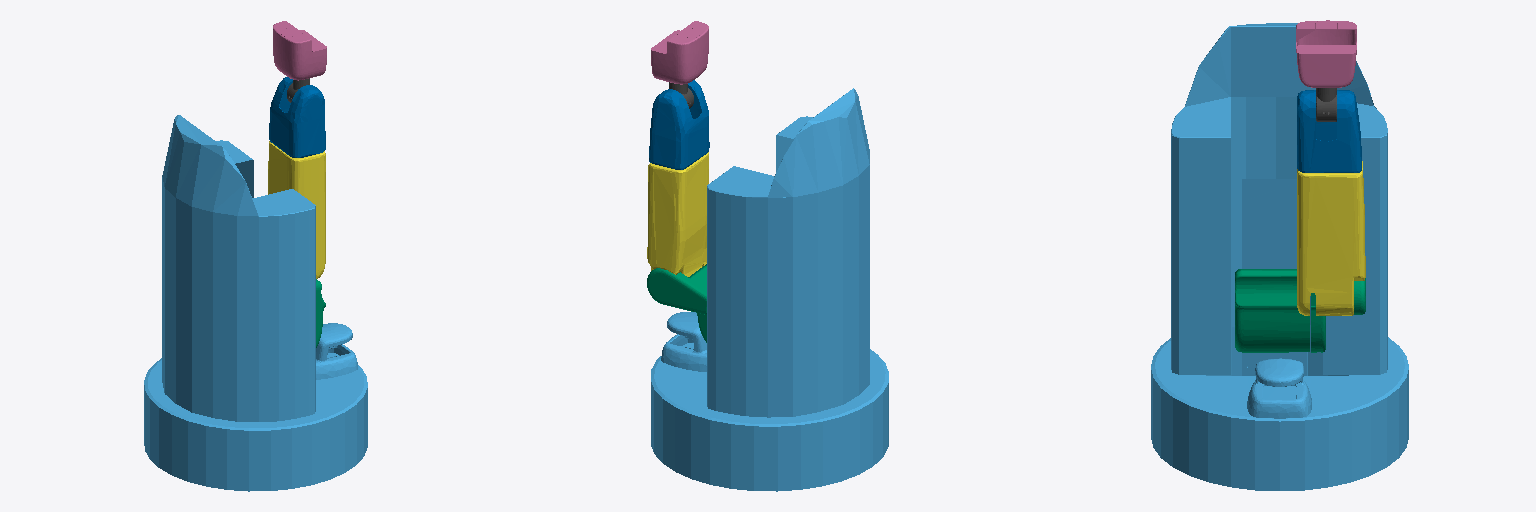
robot.urdf — hsrb:
<?xml version="1.0" encoding="utf-8"?>
<!-- =================================================================================== -->
<!-- |    This document was autogenerated by xacro from [local-path]/hsr/src/hsr_description/robots/hsrb4s.urdf.xacro | -->
<!-- |    EDITING THIS FILE BY HAND IS NOT RECOMMENDED                                 | -->
<!-- =================================================================================== -->
<!--
Copyright (c) 2017, Toyota Motor Corporation
All rights reserved.

Redistribution and use in source and binary forms, with or without
modification, are permitted provided that the following conditions are met:

 * Redistributions of source code must retain the above copyright notice,
   this list of conditions and the following disclaimer.
 * Redistributions in binary form must reproduce the above copyright
   notice, this list of conditions and the following disclaimer in the
   documentation and/or other materials provided with the distribution.
 * Neither the name of Toyota Motor Corporation nor the names of its
   contributors may be used to endorse or promote products derived from
   this software without specific prior written permission.

THIS SOFTWARE IS PROVIDED BY THE COPYRIGHT [author] "AS IS"
AND ANY EXPRESS OR IMPLIED WARRANTIES, INCLUDING, BUT NOT LIMITED TO, THE
IMPLIED WARRANTIES OF MERCHANTABILITY AND FITNESS FOR A PARTICULAR PURPOSE
ARE DISCLAIMED. IN NO EVENT SHALL THE COPYRIGHT [author]
LIABLE FOR ANY DIRECT, INDIRECT, INCIDENTAL, SPECIAL, EXEMPLARY, OR
CONSEQUENTIAL DAMAGES (INCLUDING, BUT NOT LIMITED TO, PROCUREMENT OF
SUBSTITUTE GOODS OR SERVICES; LOSS OF USE, DATA, OR PROFITS; OR BUSINESS
INTERRUPTION) HOWEVER CAUSED AND ON ANY THEORY OF LIABILITY, WHETHER IN
CONTRACT, STRICT LIABILITY, OR TORT (INCLUDING NEGLIGENCE OR OTHERWISE)
ARISING IN ANY WAY OUT OF THE USE OF THIS SOFTWARE, EVEN IF ADVISED OF THE
POSSIBILITY OF SUCH DAMAGE.
-->
<robot name="hsrb" xmlns:controller="http://playerstage.sourceforge.net/gazebo/xmlschema/#controller" xmlns:interface="http://playerstage.sourceforge.net/gazebo/xmlschema/#interface" xmlns:sensor="http://playerstage.sourceforge.net/gazebo/xmlschema/#sensor">
  <material name="body_main">
    <color rgba="1.0 0.0 0.0 1.0"/>
  </material>
  <material name="body_sub">
    <color rgba="0.3333 0.3333 0.3333 1.0"/>
  </material>
  <material name="wheel">
    <color rgba="0.2 0.2 0.2 1.0"/>
  </material>
  <material name="black">
    <color rgba="0.1 0.1 0.1 1.0"/>
  </material>
  <material name="tablet">
    <color rgba="0.1 0.1 0.2 1.0"/>
  </material>
  <!--
    ASUS Xtion PRO LIVE
    Specs from:
    http://www.asus.com/Multimedia/Xtion_PRO_LIVE/#specifications
    -->
  <link name="base_footprint"/>
  <joint name="base_footprint_joint" type="fixed">
    <parent link="base_footprint"/>
    <child link="base_link"/>
  </joint>
  <link name="base_link">
    <inertial>
      <mass value="50.00"/>
      <!-- use dummy weight to stabilize gazebo move base (real value: 11.017971)-->
      <origin xyz="-0.025978 -0.005498 0.17633"/>
      <inertia ixx="0.3742" ixy="0.000434172172" ixz="0.03088" iyy="0.3436" iyz="0.01775" izz="0.1509"/>
    </inertial>
    <visual>
      <geometry>
        <mesh filename="./meshes/base_v2/base_light.obj"/>
      </geometry>
    </visual>
    <visual>
      <geometry>
        <mesh filename="./meshes/base_v2/body_light.obj"/>
      </geometry>
    </visual>
    <visual>
      <geometry>
        <mesh filename="./meshes/base_v2/torso_base.obj"/>
      </geometry>
    </visual>
    <collision>
      <geometry>
        <mesh filename="./meshes/base_v2/base.collision.obj"/>
      </geometry>
    </collision>
  </link>
  <joint name="arm_lift_joint" type="prismatic">
    <origin rpy="0.0 0.0 0.0" xyz="0.0 0.0 0.340"/>
    <axis xyz="0.0 0.0 1.0"/>
    <limit effort="100.0" lower="0.0" upper="0.69" velocity="0.2"/>
    <parent link="base_link"/>
    <child link="arm_lift_link"/>
    <dynamics damping="1.0"/>
  </joint>
  <link name="arm_lift_link">
    <inertial>
      <mass value="1.275819"/>
      <origin xyz="0.051549 0.042438 -0.064145"/>
      <inertia ixx="0.004633" ixy="0.000475272668" ixz="-0.002403" iyy="0.008065" iyz="-0.000100268629" izz="0.007672"/>
    </inertial>
    <visual>
      <geometry>
        <mesh filename="./meshes/arm_v0/shoulder.obj"/>
      </geometry>
    </visual>
    <collision>
      <geometry>
        <mesh filename="./meshes/arm_v0/shoulder.collision.obj"/>
      </geometry>
    </collision>
  </link>
  <joint name="arm_flex_joint" type="revolute">
    <origin rpy="0.0 0.0 0.0" xyz="0.141 0.078 0.0"/>
    <axis xyz="0.0 -1.0 0.0"/>
    <limit effort="100.0" lower="-2.62" upper="0.0" velocity="1.2"/>
    <parent link="arm_lift_link"/>
    <child link="arm_flex_link"/>
    <dynamics damping="1.0"/>
  </joint>
  <link name="arm_flex_link">
    <inertial>
      <mass value="1.339295"/>
      <origin xyz="-0.000459 0.006583 0.106069"/>
      <inertia ixx="0.00889053" ixy="0.0" ixz="0.0" iyy="0.00825549" iyz="0.0" izz="0.00190511"/>
    </inertial>
    <visual>
      <geometry>
        <mesh filename="./meshes/arm_v0/arm_flex_light.obj"/>
      </geometry>
    </visual>
    <collision>
      <geometry>
        <mesh filename="./meshes/arm_v0/arm_flex.collision.obj"/>
      </geometry>
    </collision>
  </link>
  <joint name="arm_roll_joint" type="revolute">
    <origin rpy="0.0 0.0 0.0" xyz="0.005 0.0 0.345"/>
    <axis xyz="0.0 0.0 1.0"/>
    <limit effort="100.0" lower="-2.09" upper="3.84" velocity="2.0"/>
    <parent link="arm_flex_link"/>
    <child link="arm_roll_link"/>
    <dynamics damping="0.1"/>
  </joint>
  <link name="arm_roll_link">
    <inertial>
      <mass value="0.247936"/>
      <origin xyz="-0.006927 0.002039 -0.064837"/>
      <inertia ixx="0.004267" ixy="-0.000018322199" ixz="0.000017984455" iyy="0.000780923828" iyz="-0.00001392334" izz="0.00412"/>
    </inertial>
    <visual>
      <geometry>
        <mesh filename="./meshes/arm_v0/arm_roll_light.obj"/>
      </geometry>
    </visual>
    <collision>
      <geometry>
        <mesh filename="./meshes/arm_v0/arm_roll.collision.obj"/>
      </geometry>
    </collision>
  </link>
  <joint name="wrist_flex_joint" type="revolute">
    <origin rpy="0.0 0.0 0.0" xyz="0.0 0.0 0.0"/>
    <axis xyz="0.0 -1.0 0.0"/>
    <limit effort="100.0" lower="-1.92" upper="1.22" velocity="1.5"/>
    <parent link="arm_roll_link"/>
    <child link="wrist_flex_link"/>
    <dynamics damping="1.0"/>
  </joint>
  <link name="wrist_flex_link">
    <inertial>
      <mass value="0.681225"/>
      <origin xyz="0.000131 -0.003929 0.00217"/>
      <inertia ixx="0.000074353558" ixy="0.000000494515" ixz="0.000000022937" iyy="0.000038432887" iyz="-0.00000255576" izz="0.000064680918"/>
    </inertial>
    <visual>
      <geometry>
        <mesh filename="./meshes/wrist_v0/wrist_flex.obj"/>
      </geometry>
      <material name="body_sub"/>
    </visual>
    <visual>
      <origin rpy="0.0 0.0 0.0" xyz="0.0 0.0 0.04"/>
      <geometry>
        <cylinder length="0.02" radius="0.017"/>
      </geometry>
      <material name="body_sub"/>
    </visual>
    <collision>
      <origin rpy="0.0 0.0 0.0" xyz="0.0 0.0 0.03"/>
      <geometry>
        <cylinder length="0.04" radius="0.017"/>
      </geometry>
    </collision>
  </link>
  <joint name="wrist_roll_joint" type="revolute">
    <origin rpy="0.0 0.0 0.0" xyz="0.0 0.0 0.0"/>
    <axis xyz="0.0 0.0 1.0"/>
    <limit effort="100.0" lower="-1.92" upper="3.67" velocity="1.5"/>
    <parent link="wrist_flex_link"/>
    <child link="wrist_roll_link"/>
    <dynamics damping="1.0"/>
  </joint>
  <link name="wrist_roll_link">
    <inertial>
      <mass value="0.761692"/>
      <origin xyz="-0.001416 -0.001547 0.081689"/>
      <inertia ixx="0.000805633819" ixy="-0.000014431758" ixz="0.000028204659" iyy="0.000768077165" iyz="0.000022460226" izz="0.000453406611"/>
    </inertial>
    <visual>
      <geometry>
        <mesh filename="./meshes/wrist_v0/wrist_roll.obj"/>
      </geometry>
    </visual>
    <collision>
      <geometry>
        <mesh filename="./meshes/wrist_v0/wrist_roll.collision.obj"/>
      </geometry>
    </collision>
  </link>
  <joint name="hand_palm_joint" type="fixed">
    <origin rpy="0.0 0.0 3.14159265359" xyz="0.012 0.0 0.1405"/>
    <parent link="wrist_roll_link"/>
    <child link="hand_palm_link"/>
  </joint>
  <link name="hand_palm_link">
    <inertial>
      <mass value="0.15"/>
      <inertia ixx="0.015" ixy="0.0" ixz="0.0" iyy="0.015" iyz="0.0" izz="0.015"/>
    </inertial>
    <visual>
      <geometry>
        <mesh filename="./meshes/hand_v0/palm.obj"/>
      </geometry>
      <material name="body_sub"/>
    </visual>
    <collision>
      <geometry>
        <mesh filename="./meshes/hand_v0/palm.obj"/>
      </geometry>
    </collision>
  </link>
</robot>

--- What the picture shows (computed from the rendered views, not written in the file) ---
Views: 3 orthographic renders of the robot side by side, from view 1: azimuth 30°, elevation 25°; view 2: azimuth 150°, elevation 25°; view 3: azimuth 270°, elevation 25°.
Robot: hsrb — 8 links, 7 joints (4 revolute, 1 prismatic, 2 fixed); root link base_footprint; default pose: every joint at zero.
Visible links, largest first — view 1: base_link, arm_roll_link, arm_flex_link, wrist_roll_link; view 2: base_link, arm_flex_link, arm_roll_link, wrist_roll_link, arm_lift_link; view 3: base_link, arm_flex_link, arm_lift_link, arm_roll_link, wrist_roll_link, wrist_flex_link.
Boxes of the visible links, x1,y1,x2,y2 form: base_link: (144,115,367,491); arm_roll_link: (269,77,325,157); arm_flex_link: (268,141,325,278); wrist_roll_link: (273,21,326,80); base_link: (651,88,888,491); arm_flex_link: (647,152,708,276); arm_roll_link: (649,80,709,169); wrist_roll_link: (651,21,708,84); arm_lift_link: (647,264,706,342); base_link: (1151,23,1408,490); arm_flex_link: (1297,161,1365,315); arm_lift_link: (1235,269,1365,352); arm_roll_link: (1297,90,1361,172); wrist_roll_link: (1296,20,1356,87); wrist_flex_link: (1316,88,1336,121).
Bounding box of the posed robot: 0.4306 × 0.4306 × 0.8147 m (x, y, z).
8 mesh visuals loaded from 9 distinct referenced files (8 OBJ); not drawn: 1 (reference not matched to a file when rendering).